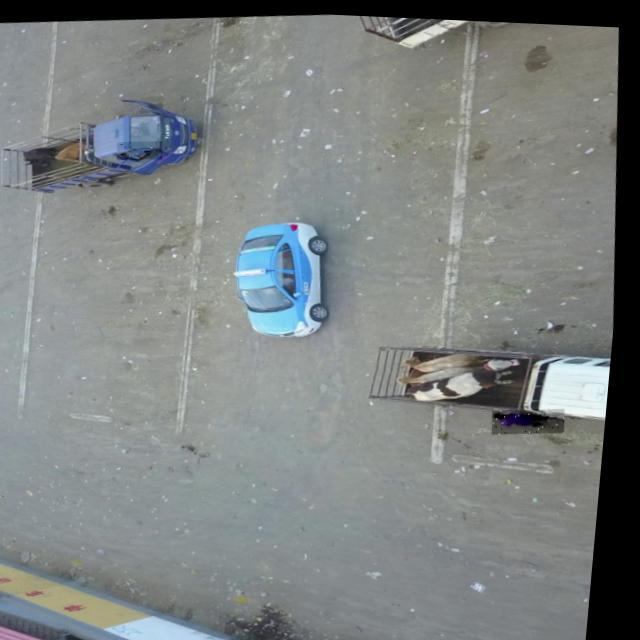Person: (498, 398, 573, 430), (118, 136, 165, 159)
